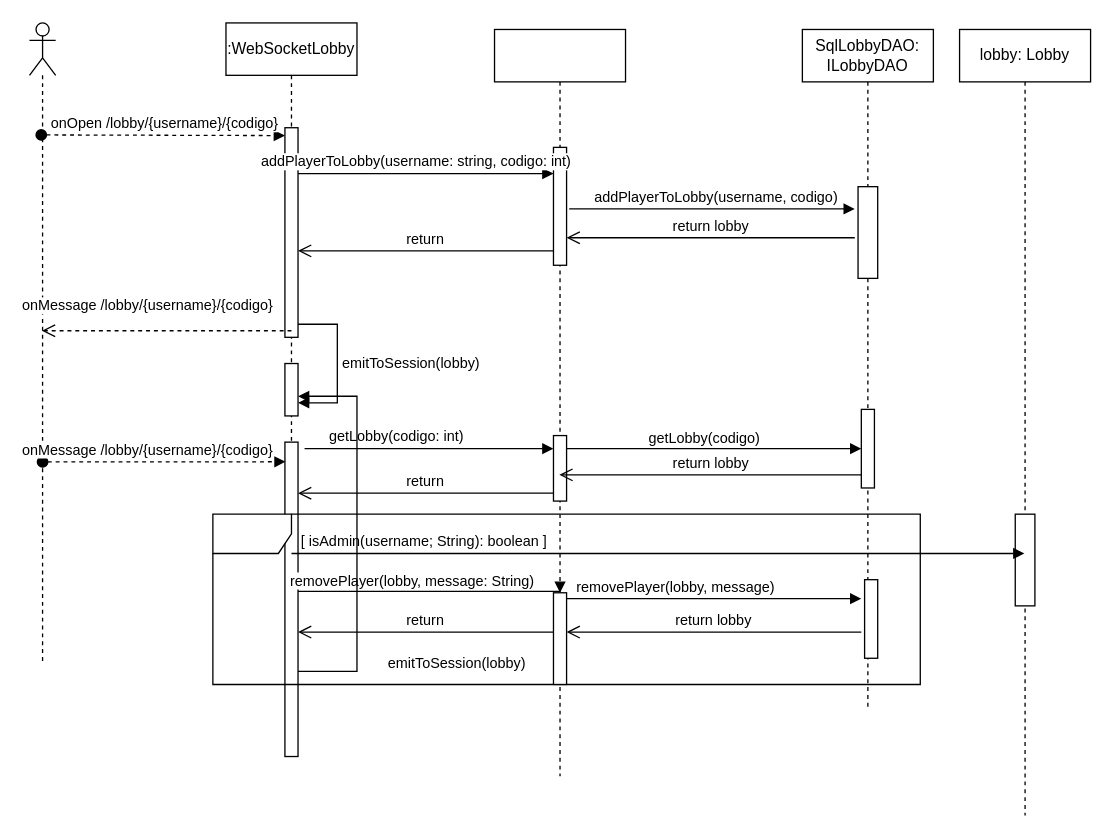
The diagram is 1115 pixels wide and 838 high, and some of its shapes have lost their labels. The shapes that lost their labels are listed below. From the top down, each one's centre as x and y in pixels, then its label:
At pixel 559 402: ":LobbyService".
At pixel 566 598: "alt".
